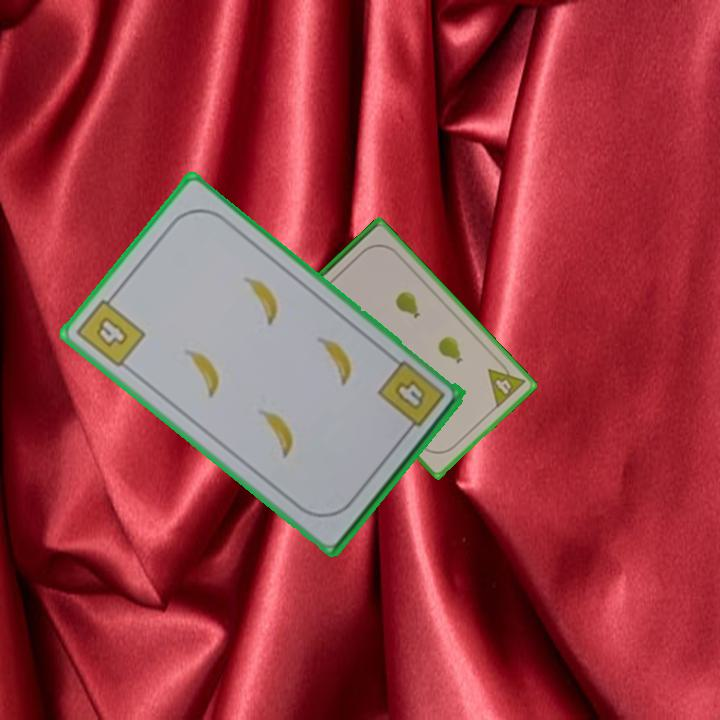4b: (72, 288, 149, 371), (373, 357, 448, 438)
4p: (484, 356, 528, 411)
